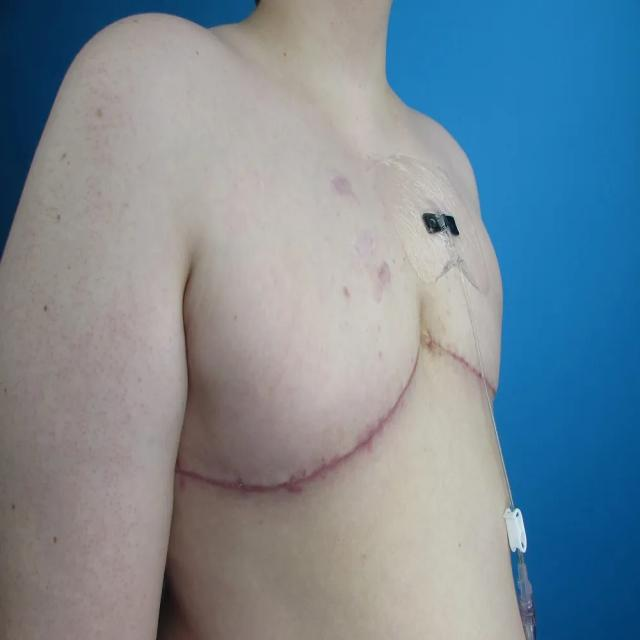Seno herido: (171, 233, 421, 516), (425, 192, 507, 414)
